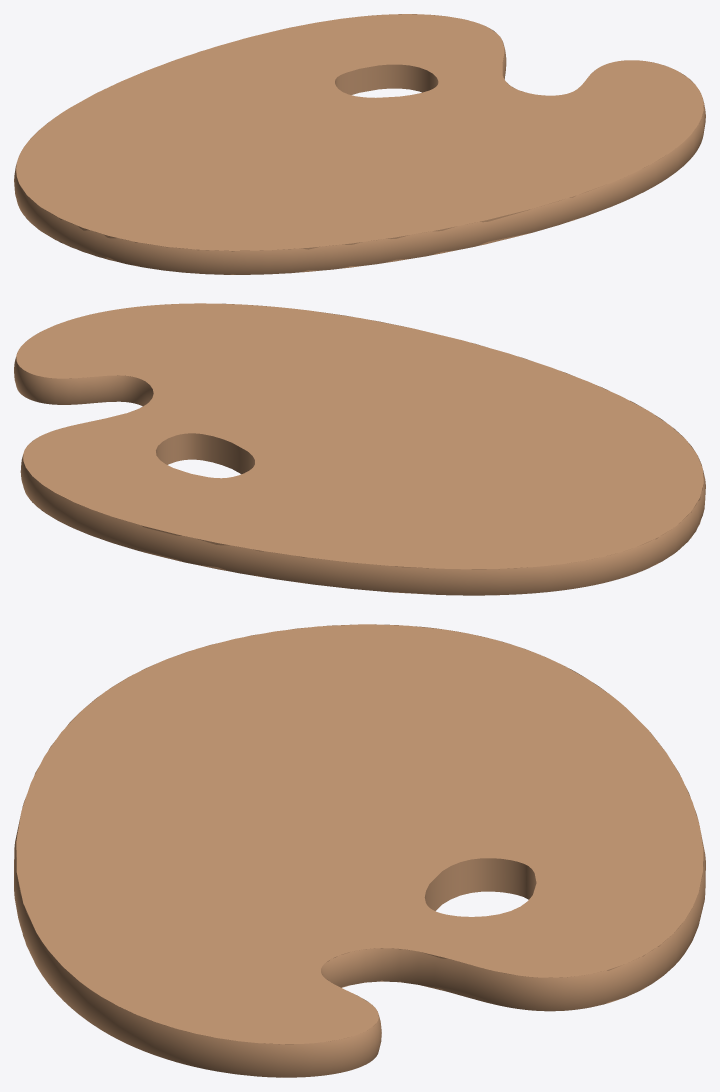
File: 362_木製パレット丸型.glb
3 views of the same model, one above another, from view 1: azimuth 30°, elevation 25°; view 2: azimuth 150°, elevation 25°; view 3: azimuth 270°, elevation 25° (orthographic). The views are drawn at different scales.
Parts seen in each view (by area): view 1: Body1; view 2: Body1; view 3: Body1.
Boxes of the visible parts, <box> form: Body1: <box>14,14,705,274</box>; Body1: <box>14,303,705,595</box>; Body1: <box>14,624,705,1077</box>.
Size of the model in its own units: 0.3522 by 0.013 by 0.2439.
